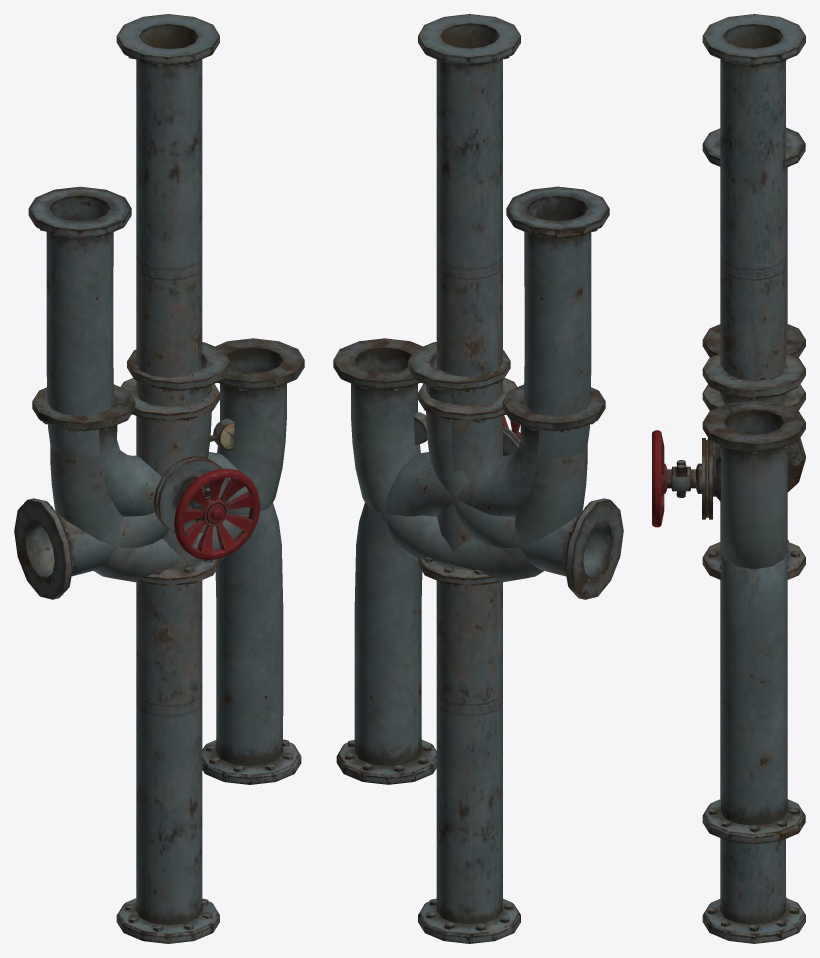
The model's file is kit_ind.glb.
3 views of the same model, side by side, from view 1: azimuth 30°, elevation 25°; view 2: azimuth 150°, elevation 25°; view 3: azimuth 270°, elevation 25° (orthographic).
Visible parts, largest first — view 1: modular_industrial_pipes_01_pipe02, modular_industrial_pipes_01_pipe03, modular_industrial_pipes_01_pipe05, modular_industrial_pipes_01_pipe08, modular_industrial_pipes_01_pipe04; view 2: modular_industrial_pipes_01_pipe02, modular_industrial_pipes_01_pipe03, modular_industrial_pipes_01_pipe05, modular_industrial_pipes_01_pipe04, modular_industrial_pipes_01_pipe08; view 3: modular_industrial_pipes_01_pipe02, modular_industrial_pipes_01_pipe03, modular_industrial_pipes_01_pipe05, modular_industrial_pipes_01_pipe08, modular_industrial_pipes_01_pipe04.
Boxes of the visible parts, x1,y1,x2,y2 form: modular_industrial_pipes_01_pipe02: (116,14,219,943); modular_industrial_pipes_01_pipe03: (28,186,301,784); modular_industrial_pipes_01_pipe05: (32,338,304,582); modular_industrial_pipes_01_pipe08: (120,378,260,586); modular_industrial_pipes_01_pipe04: (14,342,230,599); modular_industrial_pipes_01_pipe02: (418,14,520,943); modular_industrial_pipes_01_pipe03: (336,186,609,784); modular_industrial_pipes_01_pipe05: (333,338,605,583); modular_industrial_pipes_01_pipe04: (407,342,623,599); modular_industrial_pipes_01_pipe08: (414,378,520,586); modular_industrial_pipes_01_pipe02: (702,14,805,943); modular_industrial_pipes_01_pipe03: (702,127,805,844); modular_industrial_pipes_01_pipe05: (702,324,805,569); modular_industrial_pipes_01_pipe08: (652,384,805,579); modular_industrial_pipes_01_pipe04: (702,352,805,491).
Bounding box in the file's own units: 0.6067 × 1.95 × 0.3076.
2 materials, 2 textured.
